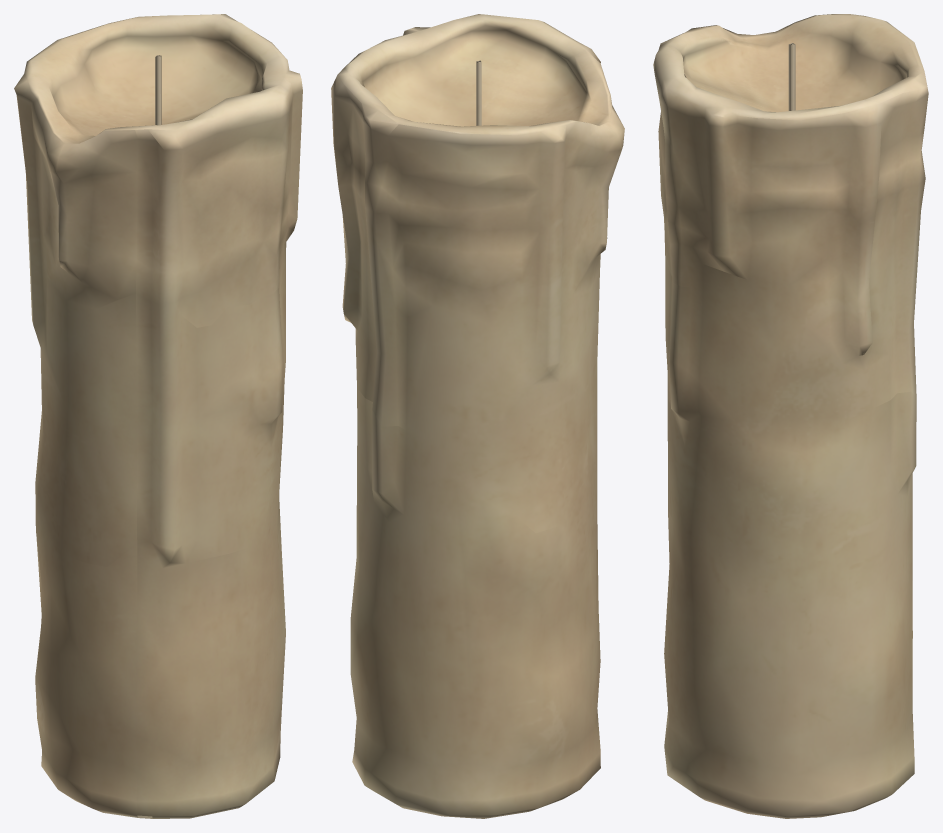
The model's file is SM_Candle_B.fbx.
The picture shows the model from 3 angles, left to right: view 1: azimuth 30°, elevation 25°; view 2: azimuth 150°, elevation 25°; view 3: azimuth 270°, elevation 25°; orthographic projection.
Visible parts, largest first — view 1: SM_Candle_B_LOD0; view 2: SM_Candle_B_LOD0; view 3: SM_Candle_B_LOD0.
Boxes of the visible parts, x1=… form: SM_Candle_B_LOD0: x1=14, y1=14, x2=302, y2=818; SM_Candle_B_LOD0: x1=331, y1=14, x2=624, y2=818; SM_Candle_B_LOD0: x1=653, y1=14, x2=928, y2=818.
Size of the model in its own units: 12.53 by 12.14 by 35.23.
